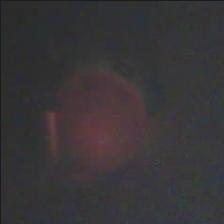fertile: (52, 64, 152, 174)
